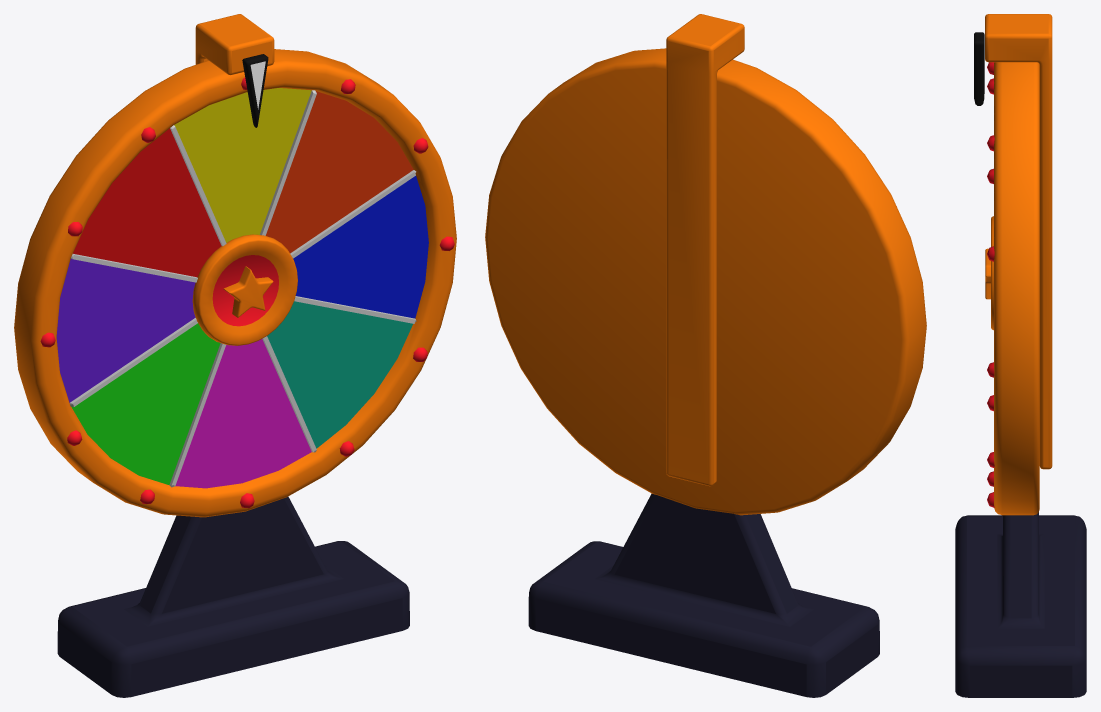
Rendered from SpinningWheel_LP_Opimization.fbx.
The picture shows the model from 3 angles, left to right: view 1: azimuth 30°, elevation 25°; view 2: azimuth 150°, elevation 25°; view 3: azimuth 270°, elevation 25°; orthographic projection.
Visible parts, largest first — view 1: Cylinder, Cube.017, Cube.020; view 2: Cylinder, Cube.017; view 3: Cube.017, Cylinder, Cube.020.
Boxes of the visible parts, x1,y1,x2,y2 form: Cylinder: [14, 49, 456, 517]; Cube.017: [57, 14, 409, 697]; Cube.020: [242, 54, 268, 127]; Cylinder: [485, 48, 926, 515]; Cube.017: [528, 14, 879, 697]; Cube.017: [955, 14, 1086, 697]; Cylinder: [985, 62, 1039, 515]; Cube.020: [974, 32, 984, 105].
Bounding box in the file's own units: 129 × 177 × 34.97.
